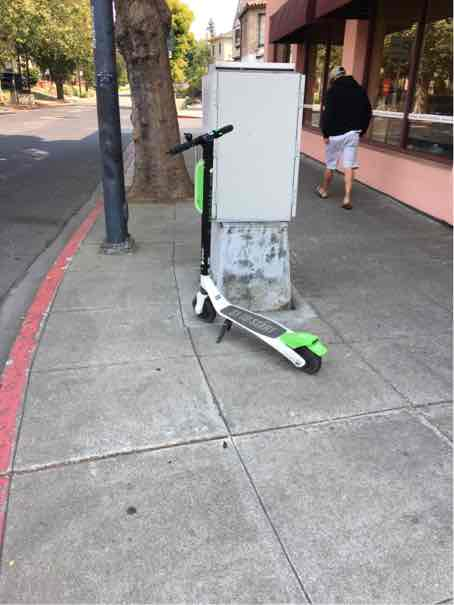scooter: (153, 127, 333, 378)
